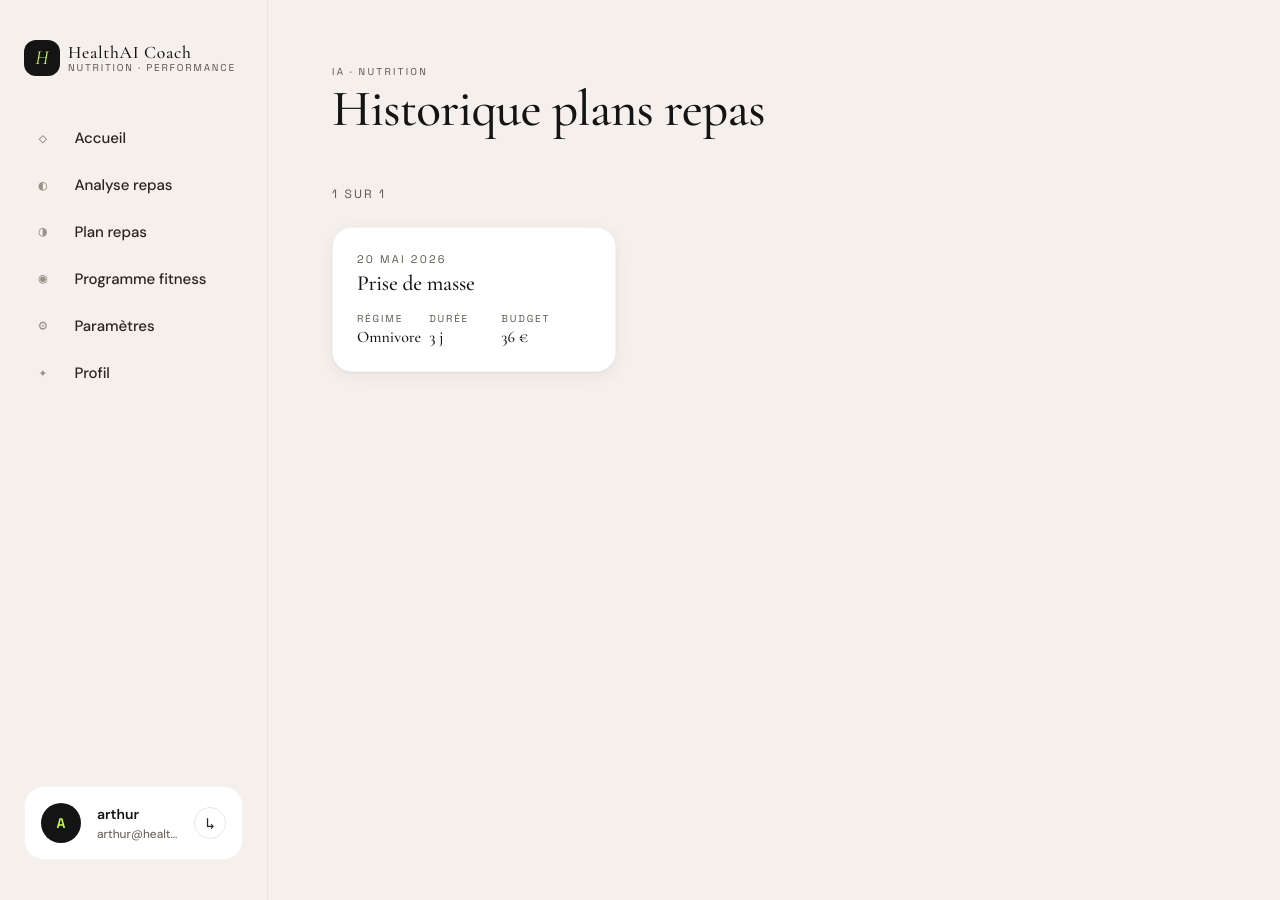
MealPlanHistoryView › detail view › clicking a card opens the detail view with MealCalendar rendered inside
Click the button with test id "meal-plan-history-card" at {"x": 402, "y": 259}, box [332, 227, 616, 372]
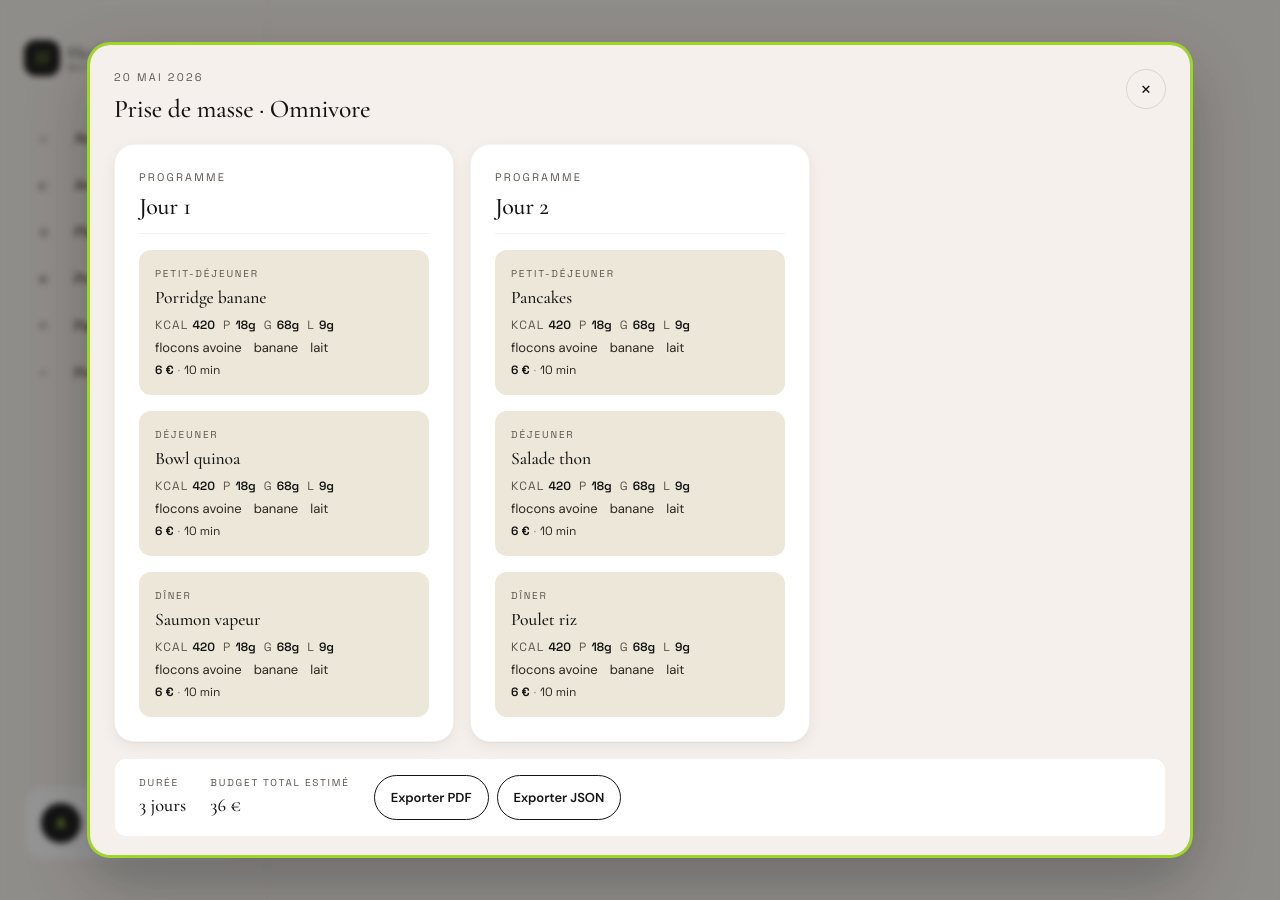
Check: the element with test id "meal-plan-history-detail" is shown
Check: the element with test id "meal-calendar-grid" is shown, box [114, 144, 810, 742]
